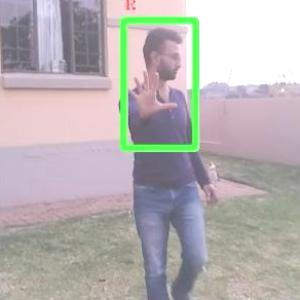follow_hand: (122, 62, 179, 120)
